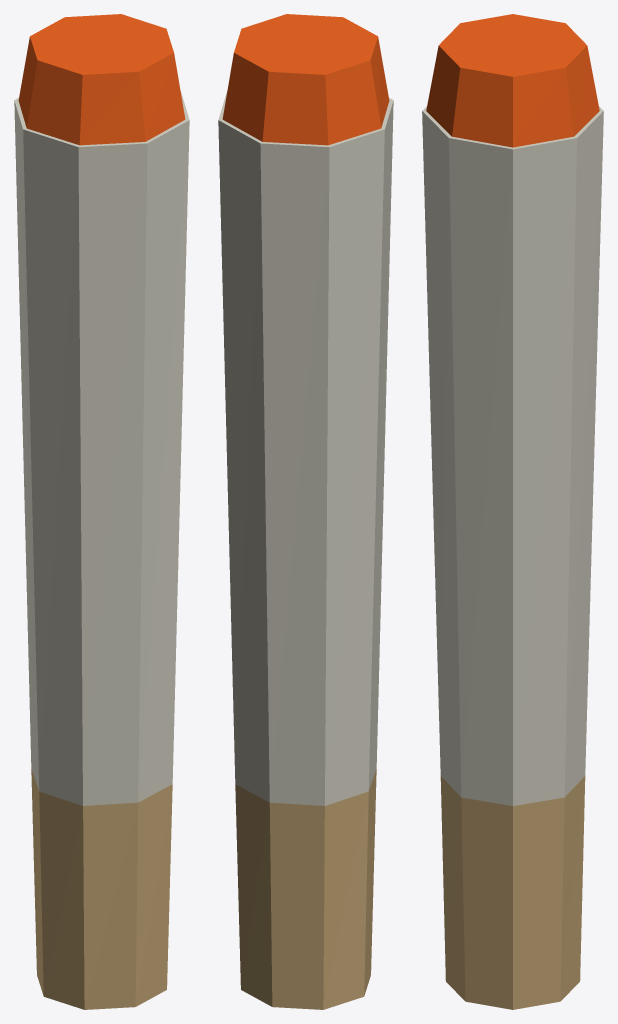
File: tool_joint.obj
The picture shows the model from 3 angles, left to right: view 1: azimuth 30°, elevation 25°; view 2: azimuth 150°, elevation 25°; view 3: azimuth 270°, elevation 25°; orthographic projection.
Visible parts, largest first — view 1: tool_joint; view 2: tool_joint; view 3: tool_joint.
Part boxes in pixels (x1,y1,x2,y2): tool_joint: [14, 14, 189, 1009]; tool_joint: [218, 14, 393, 1009]; tool_joint: [422, 14, 603, 1009].
Bounding box in the file's own units: 0.0176 × 0.1 × 0.0176.
